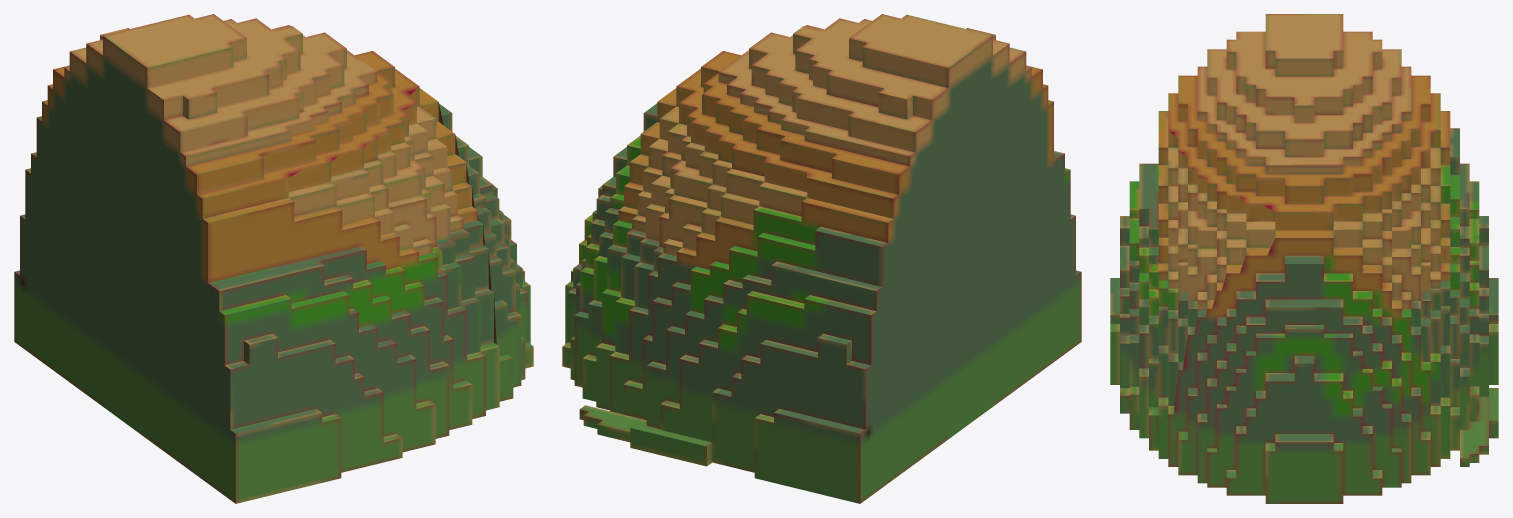
The model's file is mountain fbx .fbx.
3 views of the same model, side by side, from view 1: azimuth 30°, elevation 25°; view 2: azimuth 150°, elevation 25°; view 3: azimuth 270°, elevation 25° (orthographic). The views are drawn at different scales.
Parts seen in each view (by area): view 1: mountain; view 2: mountain; view 3: mountain.
Part boxes in pixels (x1,y1,x2,y2): mountain: (14,14,533,503); mountain: (562,14,1081,503); mountain: (1110,14,1498,503).
Bounding box in the file's own units: 400 × 370 × 400.
1 material, 1 textured.
